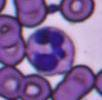N: (26, 26, 75, 76)
